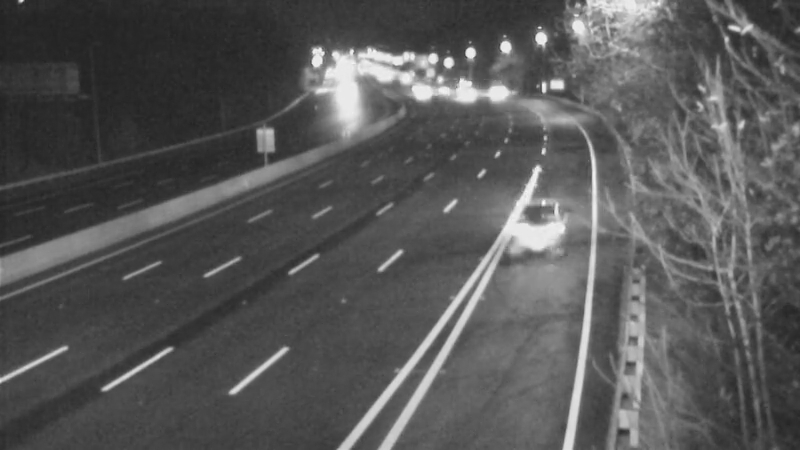vehicle: (496, 183, 576, 263), (467, 65, 517, 115), (395, 69, 445, 119), (437, 71, 487, 121)
